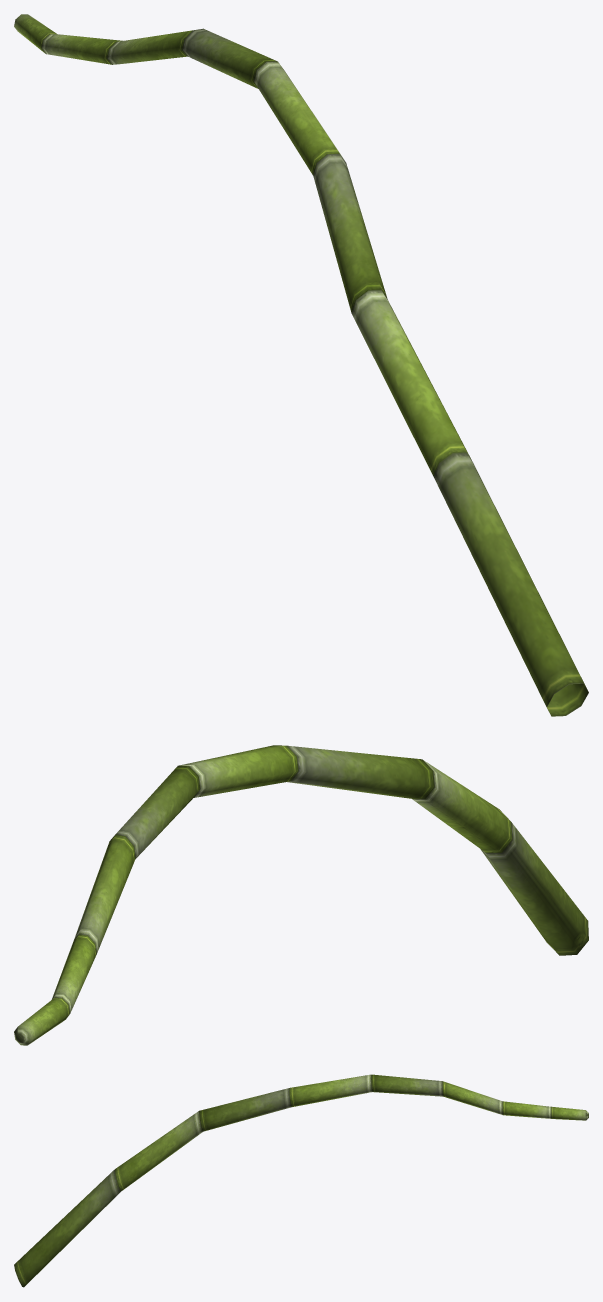
Rendered from BambooSet_part_18.fbx.
3 renders of one model, top to bottom at view 1: azimuth 30°, elevation 25°; view 2: azimuth 150°, elevation 25°; view 3: azimuth 270°, elevation 25°, orthographic. The views are drawn at different scales.
Parts seen in each view (by area): view 1: Object_4.001; view 2: Object_4.001; view 3: Object_4.001.
Boxes of the visible parts, x1,y1,x2,y2 form: Object_4.001: (14,14,588,716); Object_4.001: (14,745,588,1045); Object_4.001: (14,1074,588,1287).
Size of the model in its own units: 32.35 by 140 by 332.
